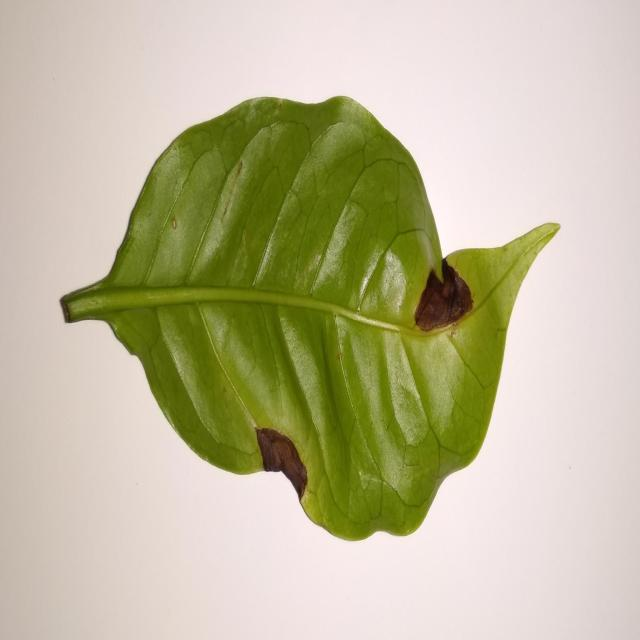phoma: (255, 427, 308, 509), (414, 258, 473, 331)
